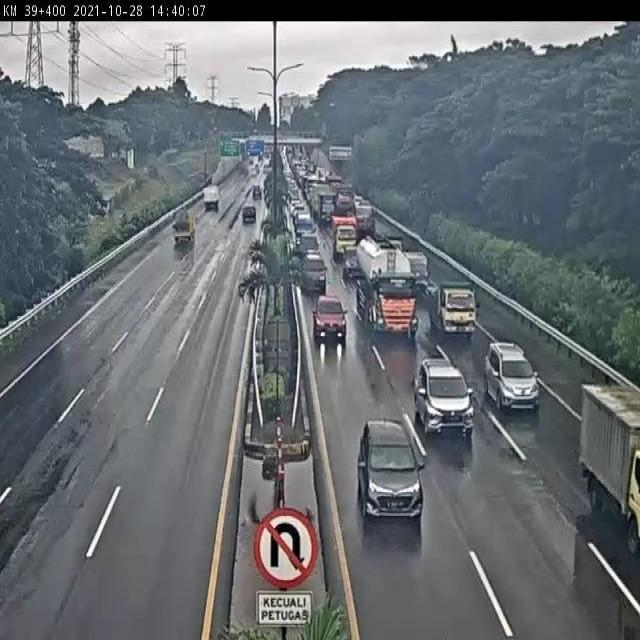car: (358, 419, 422, 516), (416, 360, 478, 431), (484, 343, 541, 409), (311, 295, 346, 337), (300, 253, 327, 292), (299, 231, 320, 257), (341, 244, 357, 277), (241, 203, 259, 225)
small truck: (171, 208, 195, 244)
truck-m-: (429, 280, 477, 335), (331, 216, 359, 261)
truck-s-: (405, 254, 431, 294)
truck-xl-: (356, 239, 420, 336)
